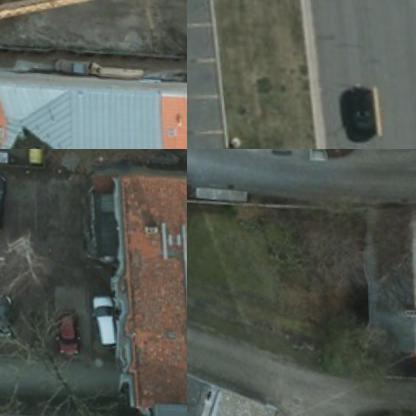car: (347, 78, 377, 136), (90, 288, 118, 348), (52, 302, 78, 358), (0, 295, 15, 344), (0, 170, 8, 230)
